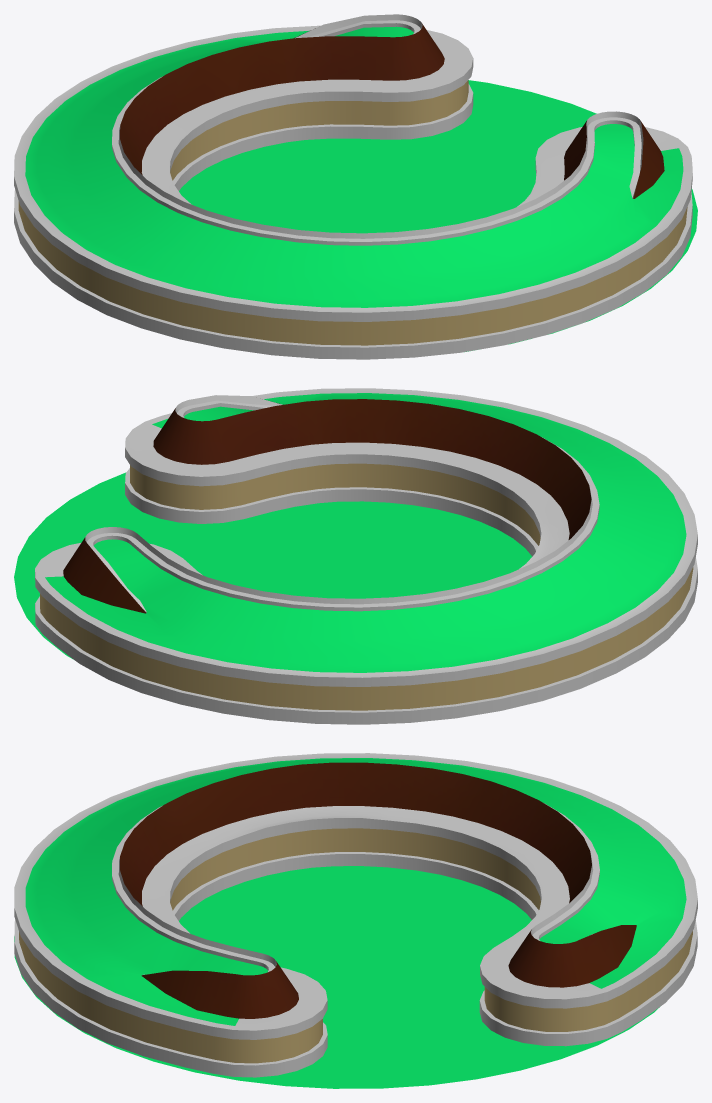
Rendered from Bancos_Auditório.fbx.
3 renders of one model, top to bottom at view 1: azimuth 30°, elevation 25°; view 2: azimuth 150°, elevation 25°; view 3: azimuth 270°, elevation 25°, orthographic.
Visible parts, largest first — view 1: Bancos Auditório Individual; view 2: Bancos Auditório Individual; view 3: Bancos Auditório Individual.
Part boxes in pixels (x1=…): Bancos Auditório Individual: x1=14, y1=14, x2=697, y2=359; Bancos Auditório Individual: x1=14, y1=388, x2=697, y2=724; Bancos Auditório Individual: x1=14, y1=753, x2=697, y2=1088.
Size of the model in its own units: 969 by 129 by 969.
